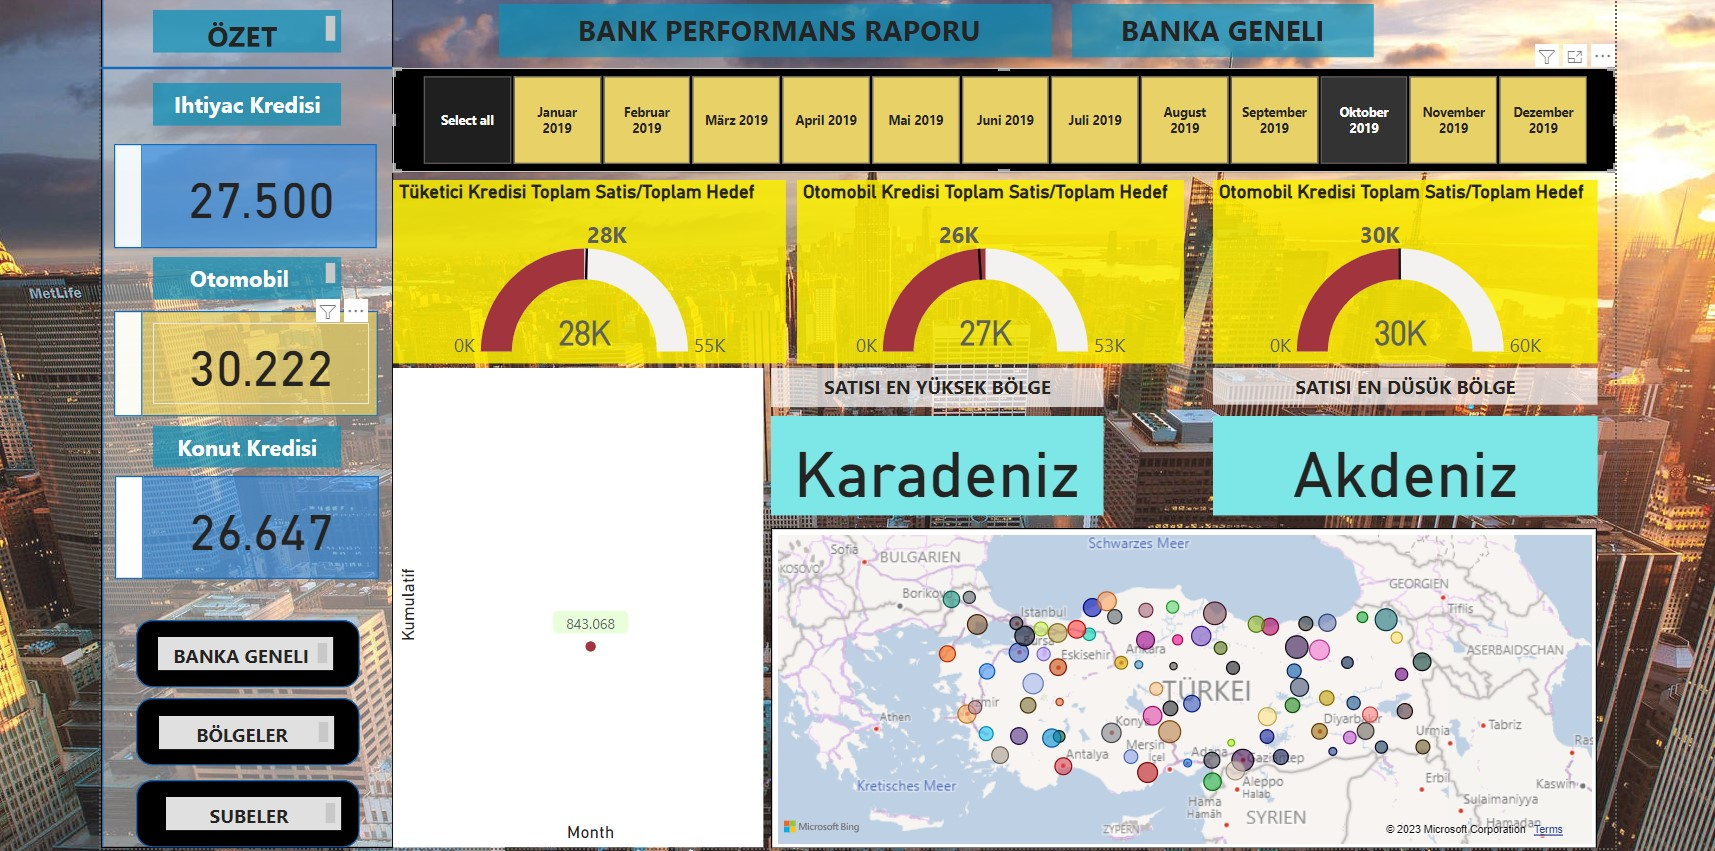

The page's visual inventory and layout, read from the dashboard file:
{"tool":"powerbi","page":{"name":"BANKA","canvas":[1280,720],"ordinal":0},"visuals":[{"type":"textbox","box":[336.7,6.7,467.4,44.8],"z":0},{"type":"textbox","box":[820.3,6.7,254.7,44.8],"z":1000},{"type":"shape","box":[0,0,247.3,720],"z":2000},{"type":"textbox","box":[43.9,11.7,159.2,35.7],"z":3000},{"type":"shape","box":[0,47.4,247,26.5],"z":4000},{"type":"textbox","box":[43.9,73.9,159.2,35.7],"z":5000},{"type":"shape","box":[11,125.2,222.3,87.8],"z":6000},{"type":"shape","box":[11,125.2,23.8,87.8],"z":7000},{"type":"shape","box":[10.9,266.4,222.7,89.1],"z":8000},{"type":"textbox","box":[43.6,220.9,159.1,36.4],"z":9000},{"type":"textbox","box":[43.6,363.6,159.1,35.5],"z":10000},{"type":"shape","box":[11.8,405.5,222.7,87.3],"z":11000},{"type":"shape","box":[11.8,405.5,23.6,87.3],"z":12000},{"type":"shape","box":[10.9,266.4,23.6,89.1],"z":13000},{"type":"shape","box":[30,527.3,189.1,57.3],"z":14000},{"type":"shape","box":[30,593.6,189.1,57.3],"z":15000},{"type":"shape","box":[30,662.7,189.1,57.3],"z":16000},{"type":"textbox","box":[48.2,541.8,148.2,28.2],"z":17000},{"type":"textbox","box":[49.1,608.2,148.2,28.2],"z":18000},{"type":"textbox","box":[54.5,677.3,148.2,28.2],"z":19000},{"type":"card","fields":{"Values":["Olculer.Tuketici Kredisi Toplam Satis"]},"box":[43.6,134.5,182.7,68.2],"z":20000},{"type":"card","fields":{"Values":["Olculer.Otomobil Kredisi Toplam Satis"]},"box":[43.6,276.4,182.7,68.2],"z":21000},{"type":"card","fields":{"Values":["Olculer.Konut Kredisi Toplam Satis"]},"box":[43.6,414.5,182.7,68.2],"z":22000},{"type":"slicer","fields":{"Values":["krediler.Ay"]},"box":[247,61,1033,87.7],"z":23000},{"type":"gauge","title":"Tüketici Kredisi Toplam Satis/Toplam Hedef","fields":{"TargetValue":["Olculer.Tuketici Kredisi Toplam Hedef"],"Y":["Olculer.Tuketici Kredisi Toplam Satis"]},"box":[247,155.5,331.9,155.5],"z":24000},{"type":"gauge","title":"Otomobil Kredisi Toplam Satis/Toplam Hedef","fields":{"TargetValue":["Olculer.Konut Kredisi Toplam Hedef"],"Y":["Olculer.Konut Kredisi Toplam Satis"]},"box":[588.5,155.5,327.2,154.5],"z":25000},{"type":"gauge","title":"Otomobil Kredisi Toplam Satis/Toplam Hedef","fields":{"Y":["Olculer.Otomobil Kredisi Toplam Satis"],"TargetValue":["Olculer.Otomobil Kredisi Toplam Hedef"]},"box":[939.5,155.5,325.2,155.5],"z":26000},{"type":"areaChart","fields":{"Category":["krediler.Ay.Variation.Date Hierarchy.Month"],"Y":["Olculer.Kumulatif"]},"box":[247,314.8,312.8,405.4],"z":27000},{"type":"textbox","box":[566.6,314.8,281.4,33.4],"z":28000},{"type":"card","fields":{"Values":["Min(subeListesi.Bolgesi)"]},"box":[566.6,354.8,281.4,83.9],"z":29000},{"type":"textbox","box":[939.5,314.8,325.2,31.5],"z":30000},{"type":"card","fields":{"Values":["Min(subeListesi.Bolgesi)"]},"box":[939.5,354.8,325.2,83.9],"z":31000},{"type":"map","fields":{"Category":["subeListesi.Konum"],"Series":["subeListesi.Konum"],"Size":["Olculer.Toplam Kredi Satisi"]},"box":[566.6,449.2,698.2,270.9],"z":31001}]}

Visuals, with their boxes in screenshot pixels (x1, y1, x2, y2):
textbox: 492,8,1038,60
textbox: 1057,8,1354,60
shape: 98,0,387,841
textbox: 150,14,336,55
shape: 98,55,387,86
textbox: 150,86,336,128
shape: 111,146,371,249
shape: 111,146,139,249
shape: 111,311,371,415
textbox: 149,258,335,301
textbox: 149,425,335,466
shape: 112,474,372,576
shape: 112,474,140,576
shape: 111,311,139,415
shape: 133,616,354,683
shape: 133,694,354,761
shape: 133,774,354,841
textbox: 155,633,328,666
textbox: 156,711,329,744
textbox: 162,791,335,824
card - Olculer.Tuketici Kredisi Toplam Satis: 149,157,363,237
card - Olculer.Otomobil Kredisi Toplam Satis: 149,323,363,403
card - Olculer.Konut Kredisi Toplam Satis: 149,484,363,564
slicer - krediler.Ay: 387,71,1594,174
"Tüketici Kredisi Toplam Satis/Toplam Hedef" gauge: 387,182,775,363
"Otomobil Kredisi Toplam Satis/Toplam Hedef" gauge: 786,182,1168,362
"Otomobil Kredisi Toplam Satis/Toplam Hedef" gauge: 1196,182,1576,363
areaChart - krediler.Ay.Variation.Date Hierarchy.Month x Olculer.Kumulatif: 387,368,752,841
textbox: 760,368,1089,407
card - Min(subeListesi.Bolgesi): 760,415,1089,513
textbox: 1196,368,1576,405
card - Min(subeListesi.Bolgesi): 1196,415,1576,513
map - subeListesi.Konum x subeListesi.Konum: 760,525,1576,841
